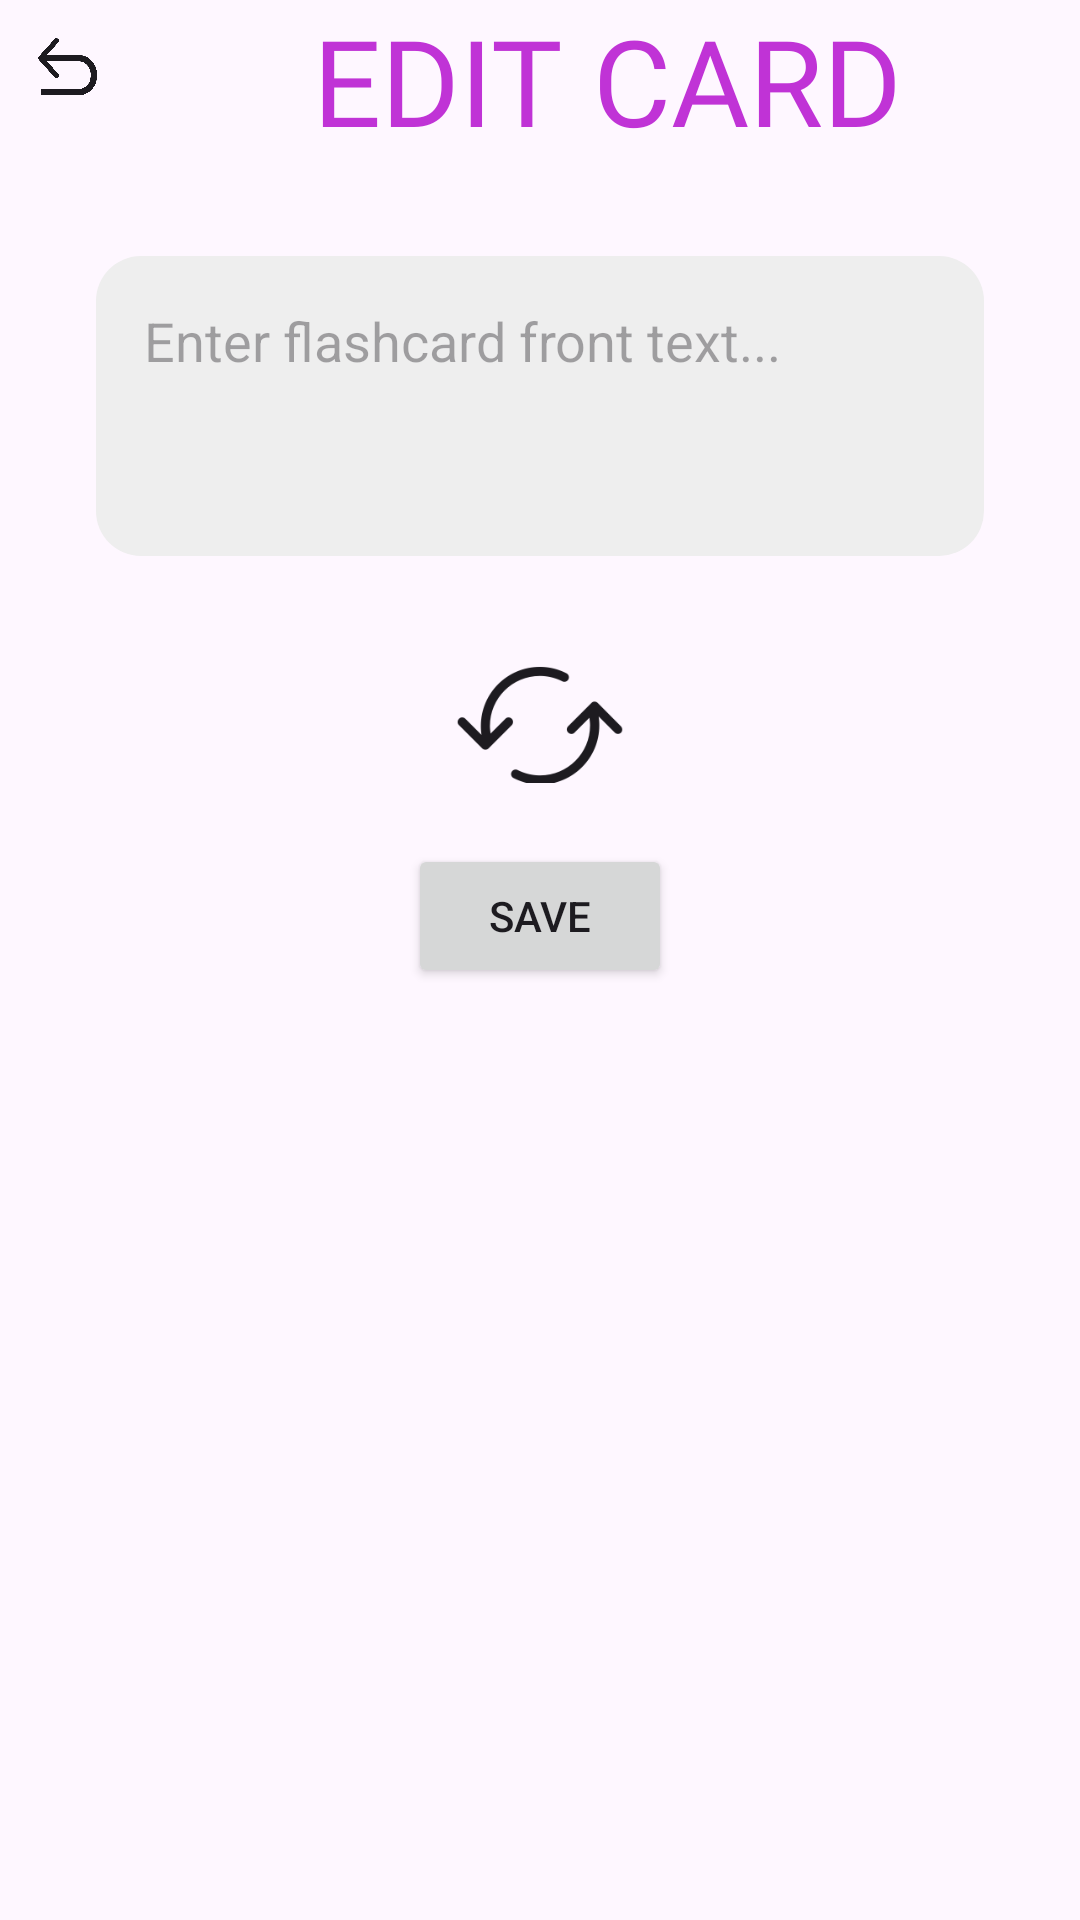

Point at icon controls on the screen. Image size 1080w x 1920h, points as (x,y).
Back arrow icon: (67,66)
Flip deck icon: (540,725)
